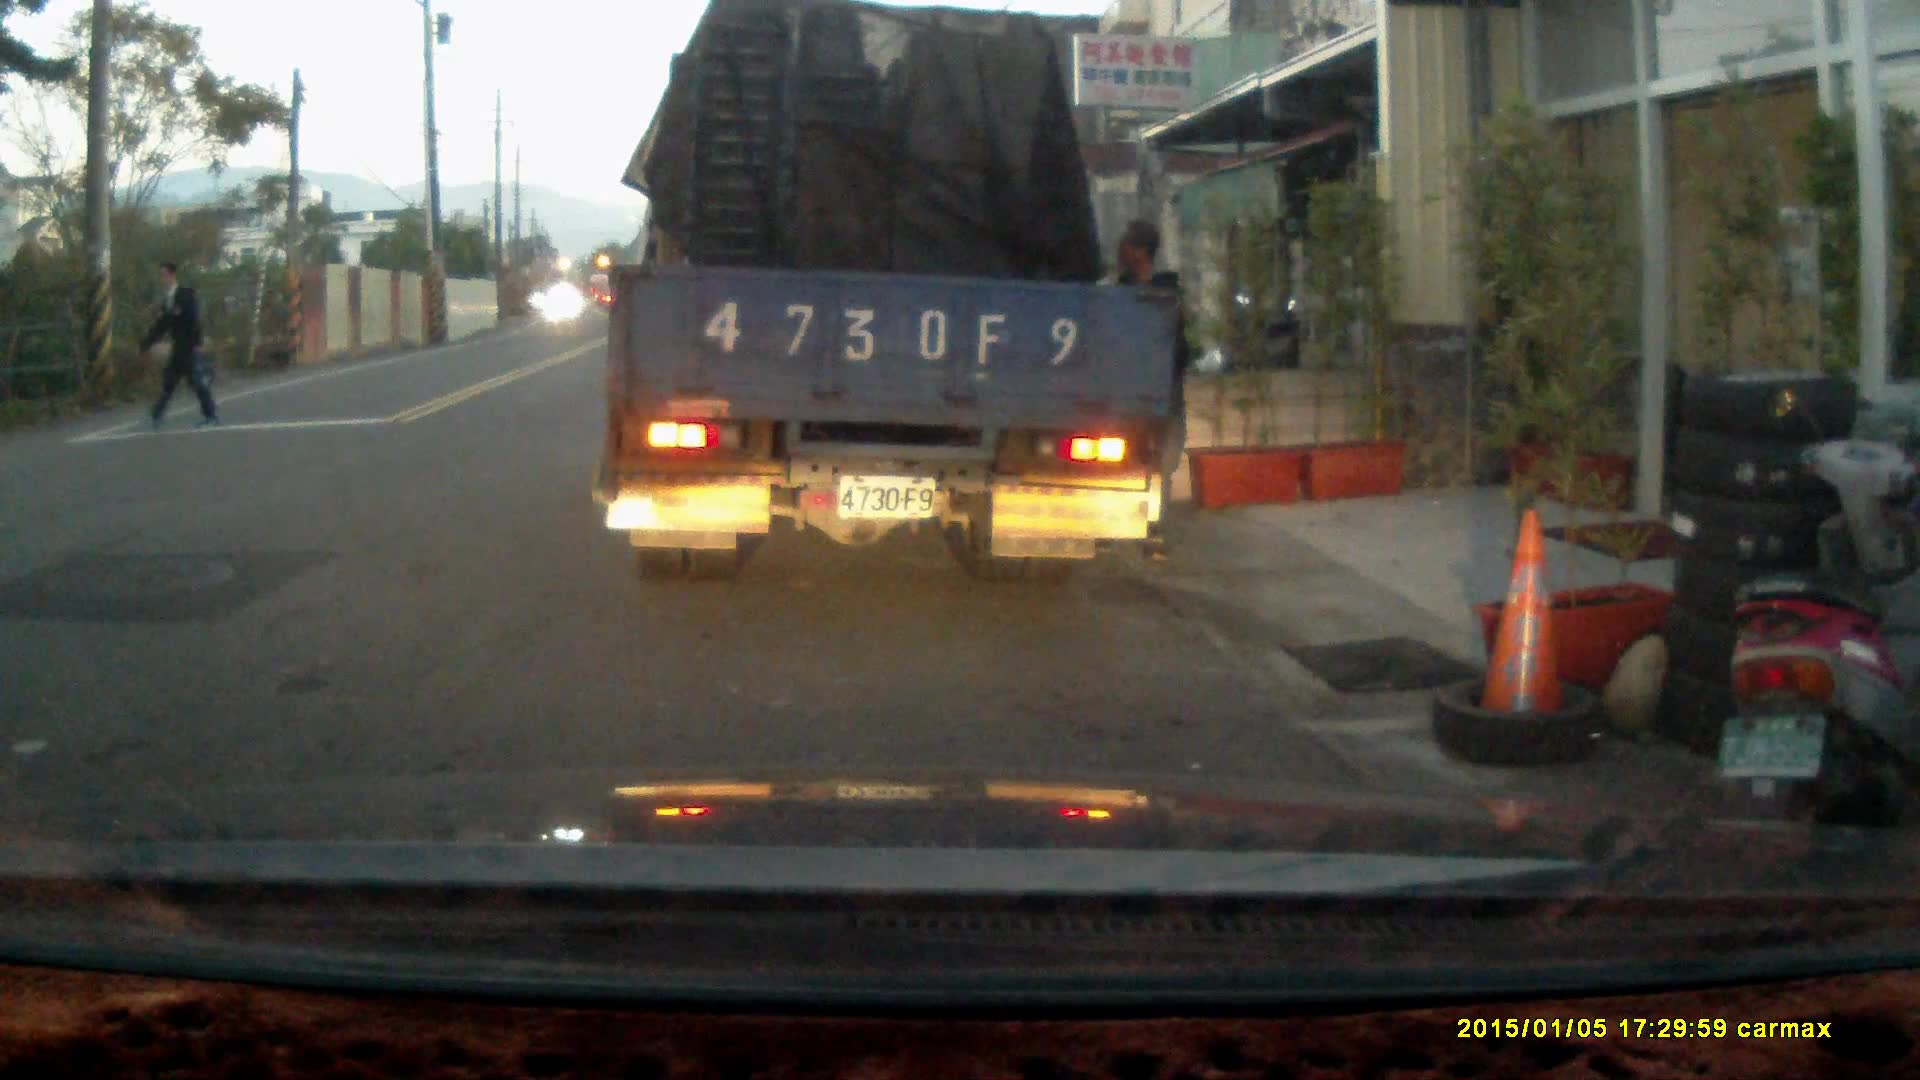pedestrian: (1093, 217, 1191, 568), (137, 258, 216, 435)
vehicle: (605, 23, 1188, 572)
